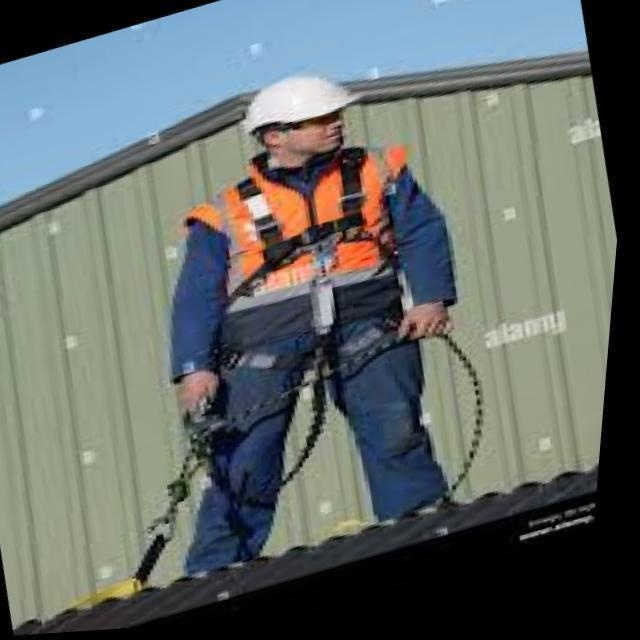Arnes_seguridad: (212, 153, 417, 396)
